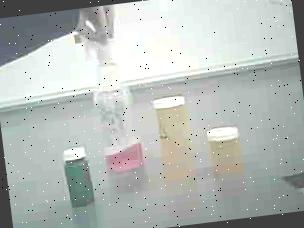Bottle A: (148, 86, 207, 198)
Bottle B: (204, 116, 250, 184)
Bottle C: (60, 140, 106, 218)
hazard: (74, 26, 153, 182)
